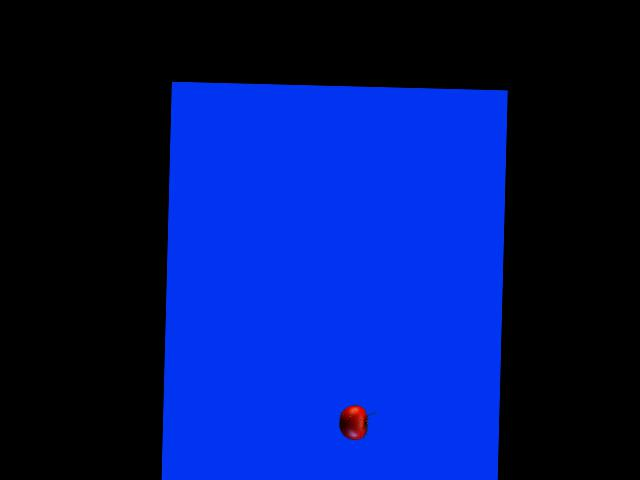tomato: (338, 405, 367, 440)
